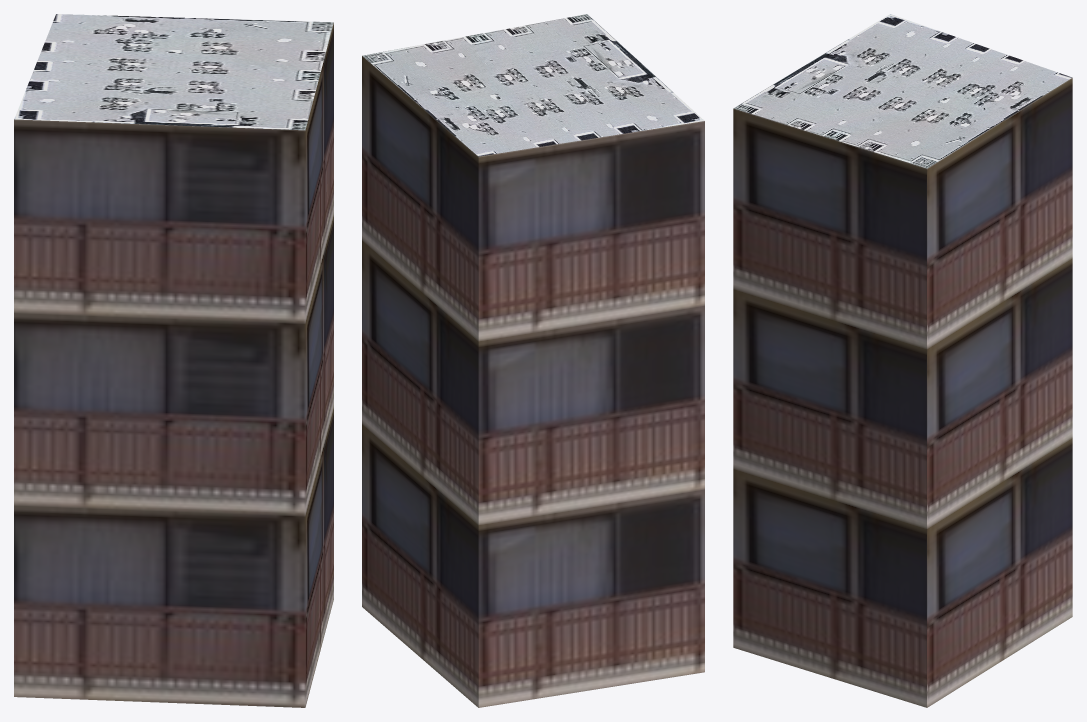
File: ResTex__204.fbx
3 views of the same model, side by side, from view 1: azimuth 30°, elevation 25°; view 2: azimuth 150°, elevation 25°; view 3: azimuth 270°, elevation 25° (orthographic). The views are drawn at different scales.
Parts seen in each view (by area): view 1: CityEngineMaterial_6_m, CityEngineMaterial_8_m; view 2: CityEngineMaterial_6_m, CityEngineMaterial_8_m; view 3: CityEngineMaterial_6_m, CityEngineMaterial_8_m.
Part boxes in pixels (box(x1,y1,x2,y2)): CityEngineMaterial_6_m: box(14, 22, 333, 707); CityEngineMaterial_8_m: box(14, 14, 333, 130); CityEngineMaterial_6_m: box(362, 56, 704, 707); CityEngineMaterial_8_m: box(362, 14, 704, 156); CityEngineMaterial_6_m: box(733, 78, 1072, 707); CityEngineMaterial_8_m: box(734, 14, 1072, 168).
Bounding box in the file's own units: 5.53 × 9 × 5.13.
Materials: 2 (2 with a texture image).
